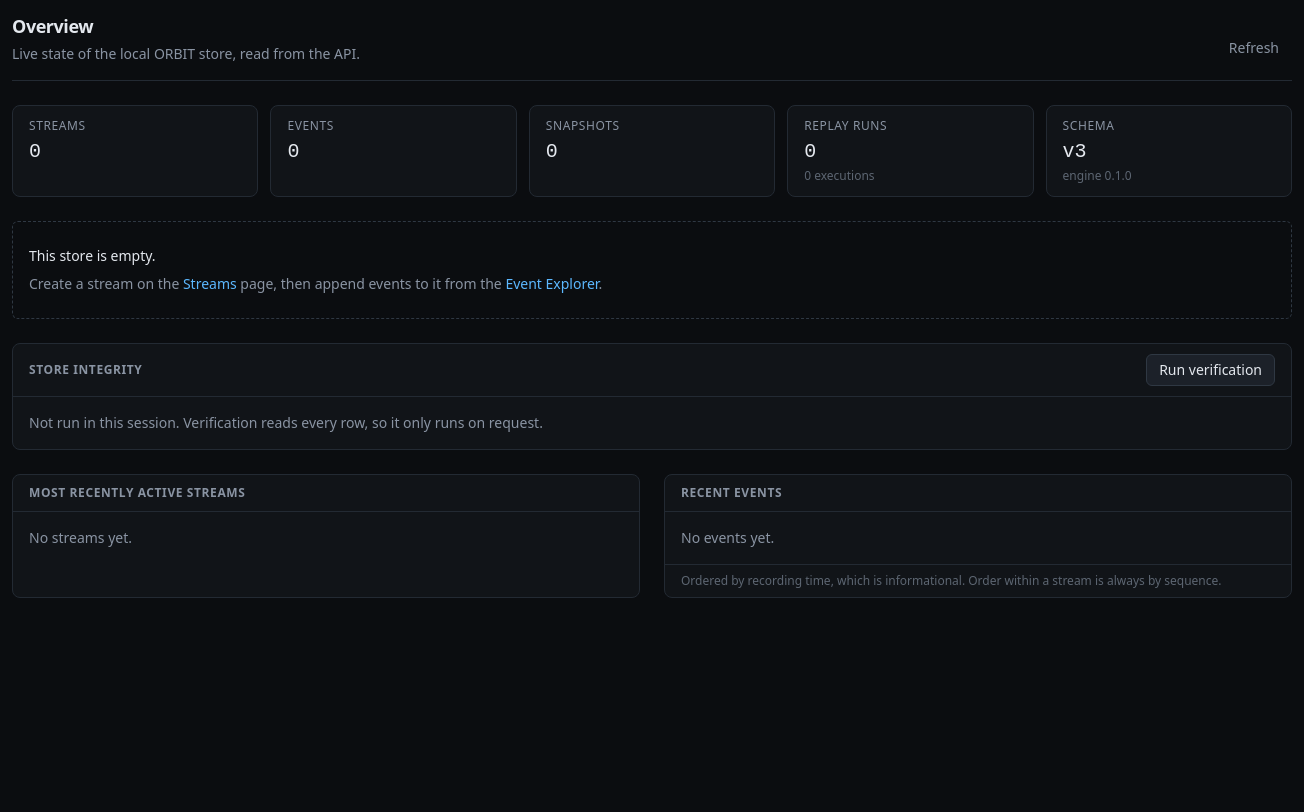
Overview page › only reports integrity results after verification actually ran
Expected: the text "Not run in this session" is shown, [29,413,543,432]
Click the button "Run verification".
click(1211, 370)  # box [1146,354,1275,386]
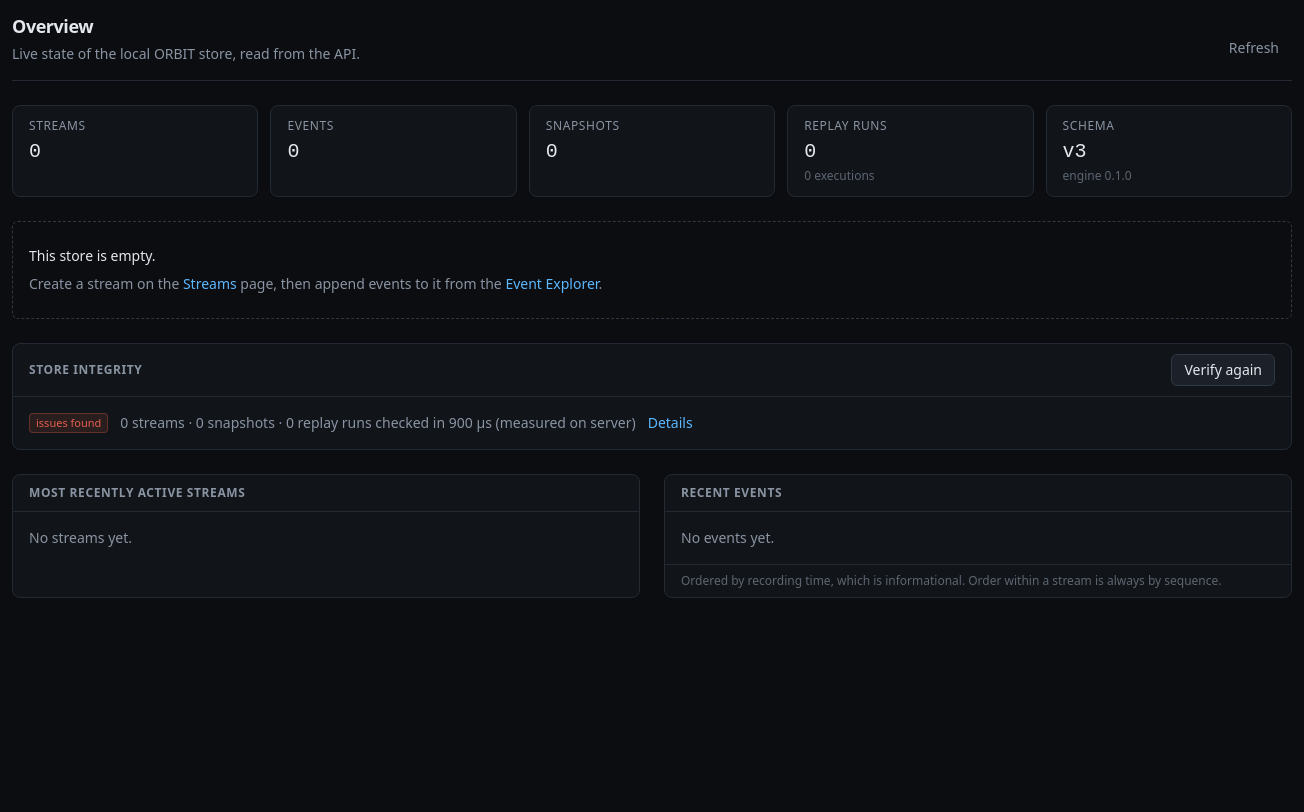
Expected: the text "issues found" is shown, [29,413,108,433]
